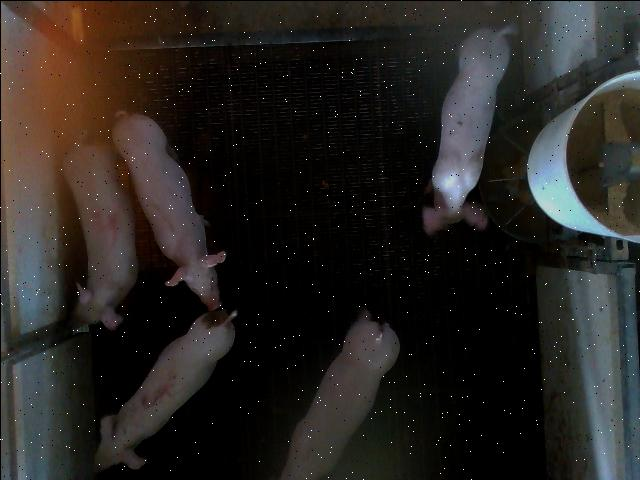pig-4: (62, 144, 138, 329)
pig-5: (94, 309, 236, 471)
